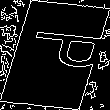P_E: (6, 32, 104, 78)
